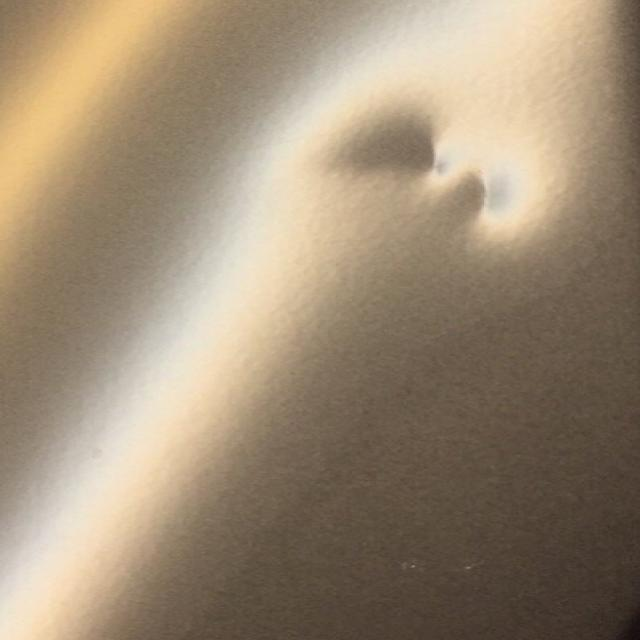dents: (311, 96, 559, 255)
